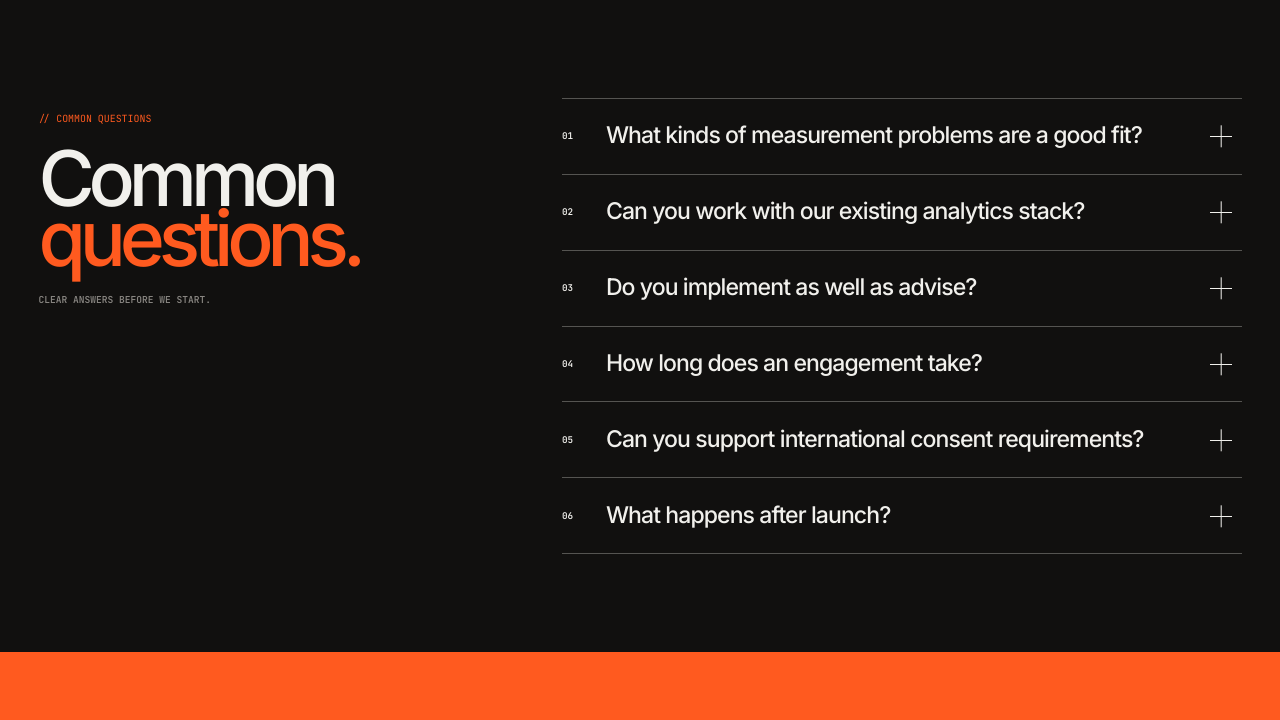
Test: opens and closes one black-section question at a time
Expected: the number of elements with class "faq-question__index" is 6, [562,130,573,142]; [562,206,573,218]; [562,282,573,294]; [562,358,573,370]; [562,434,573,446]; [562,510,573,522]
Expected: the number of elements with class "faq-question__label" is 6, [606,124,1210,148]; [606,197,1084,225]; [606,273,976,301]; [606,349,982,377]; [606,428,1210,452]; [606,501,890,529]
Click the button "What kinds of measurement problems are a good fit?" at (902, 136), box [562,99,1242,174]
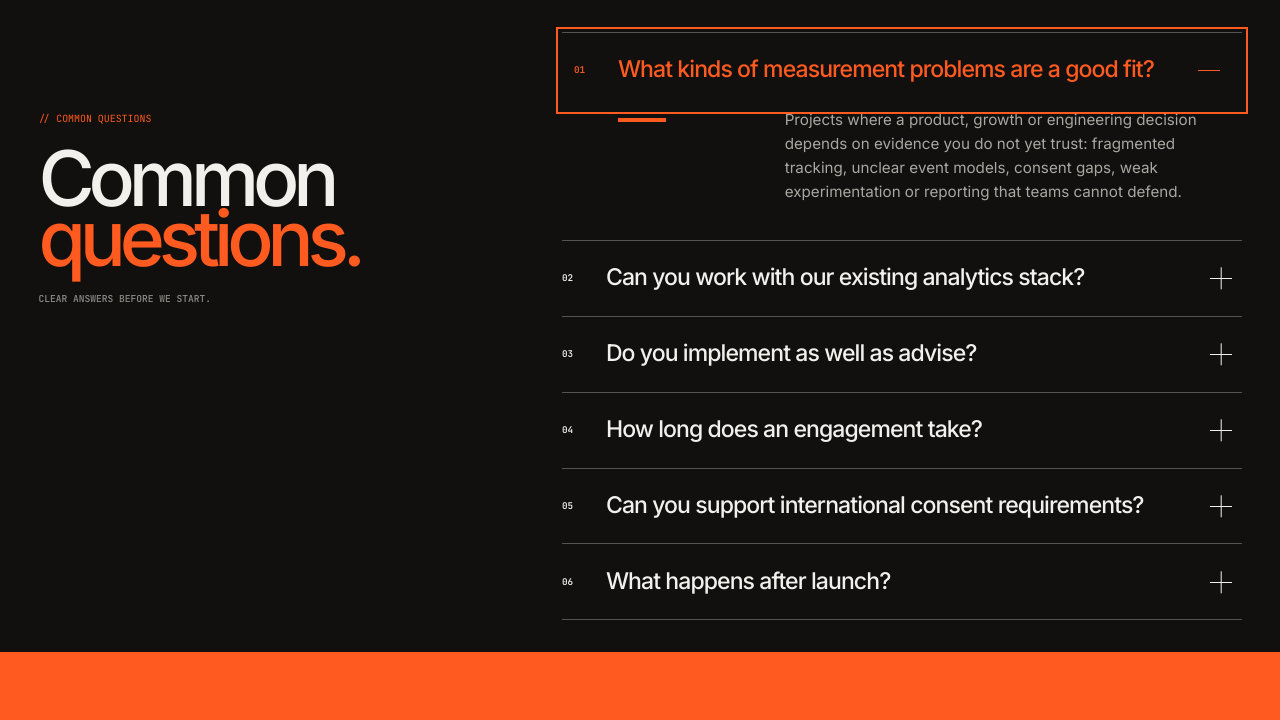
Expected: the button "What kinds of measurement problems are a good fit?" is expanded, [562,33,1242,108]
Expected: the text "fragmented tracking" is shown, [785,110,1197,201]
Click the button "Can you work with our existing analytics stack?" at (902, 278), box [562,241,1242,316]
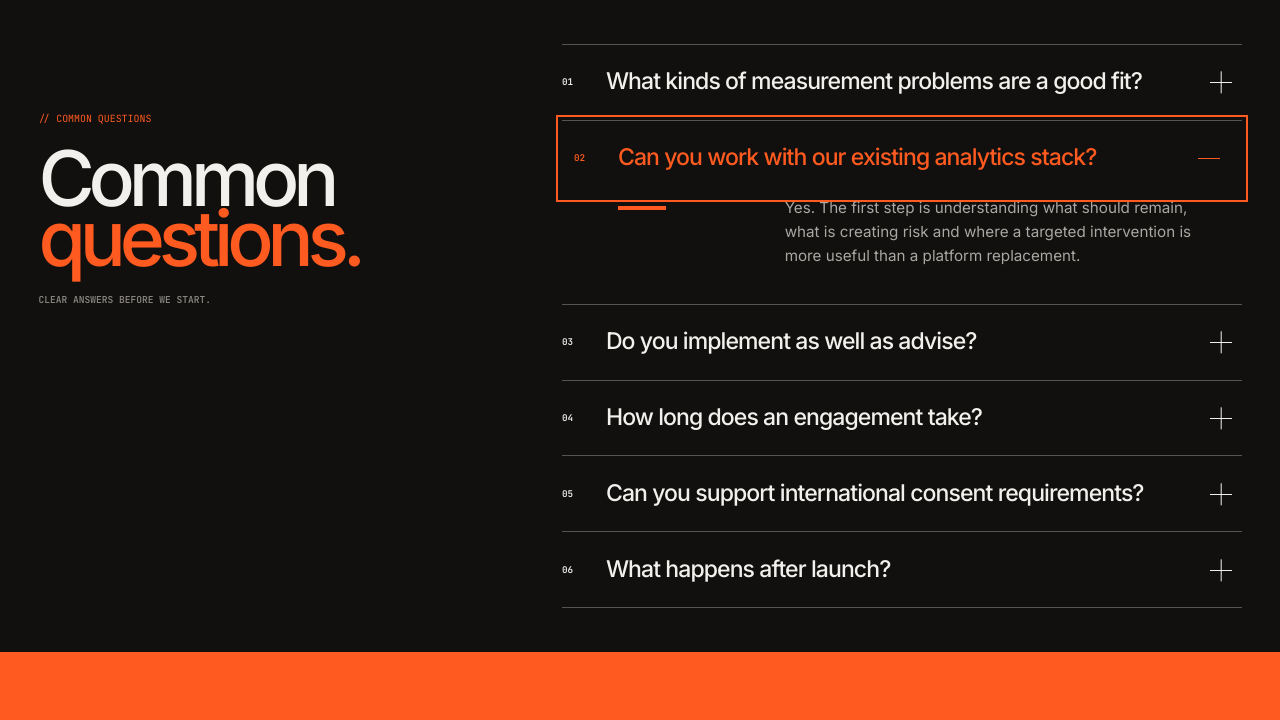
Expected: the button "What kinds of measurement problems are a good fit?" is collapsed, [562,45,1242,120]
Expected: the button "Can you work with our existing analytics stack?" is expanded, [562,121,1242,196]
